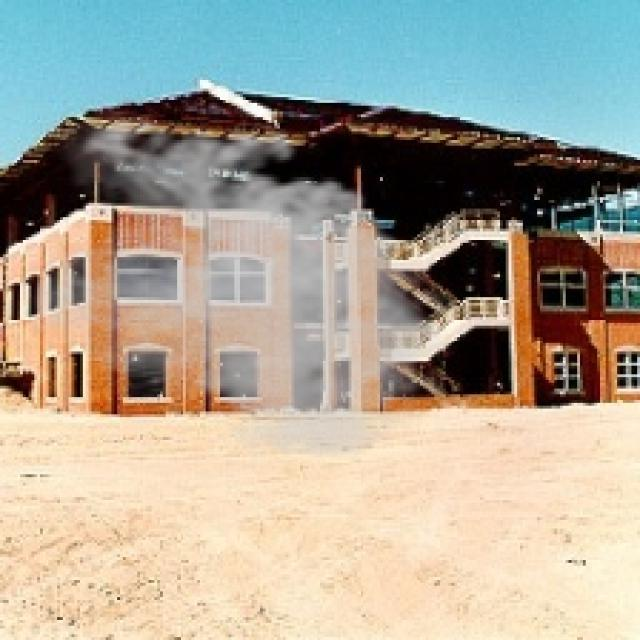Smoke: (32, 106, 457, 466)
